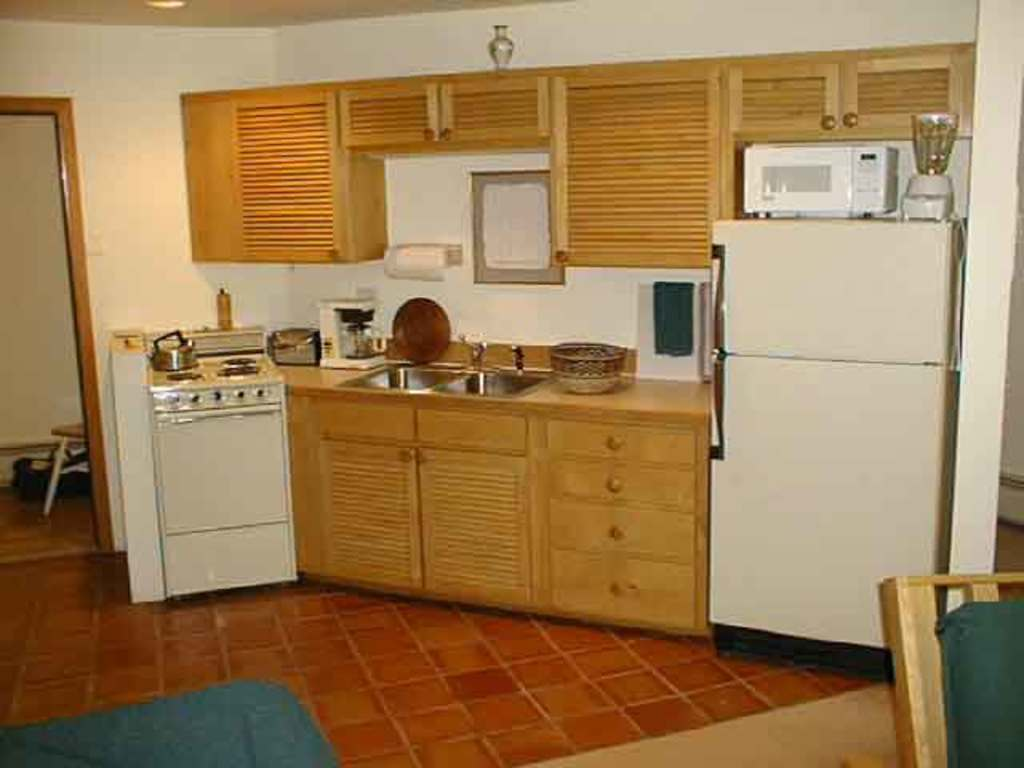cabinet door: (551, 82, 716, 255), (237, 103, 344, 261), (418, 450, 526, 595), (322, 439, 419, 595), (557, 553, 694, 620), (731, 71, 838, 140), (849, 66, 952, 137), (438, 81, 546, 141), (550, 465, 694, 507), (552, 418, 705, 457), (339, 87, 440, 141), (564, 514, 700, 553)
handle: (712, 351, 731, 464), (708, 246, 728, 350), (604, 523, 630, 545), (819, 111, 840, 138), (610, 574, 630, 602), (605, 431, 625, 458), (605, 470, 626, 495), (318, 245, 339, 265), (845, 106, 860, 133), (420, 125, 438, 145), (397, 446, 413, 468), (438, 125, 454, 147), (415, 450, 430, 471), (558, 246, 573, 267)
refrigerator door: (712, 352, 940, 636), (714, 226, 950, 359)
